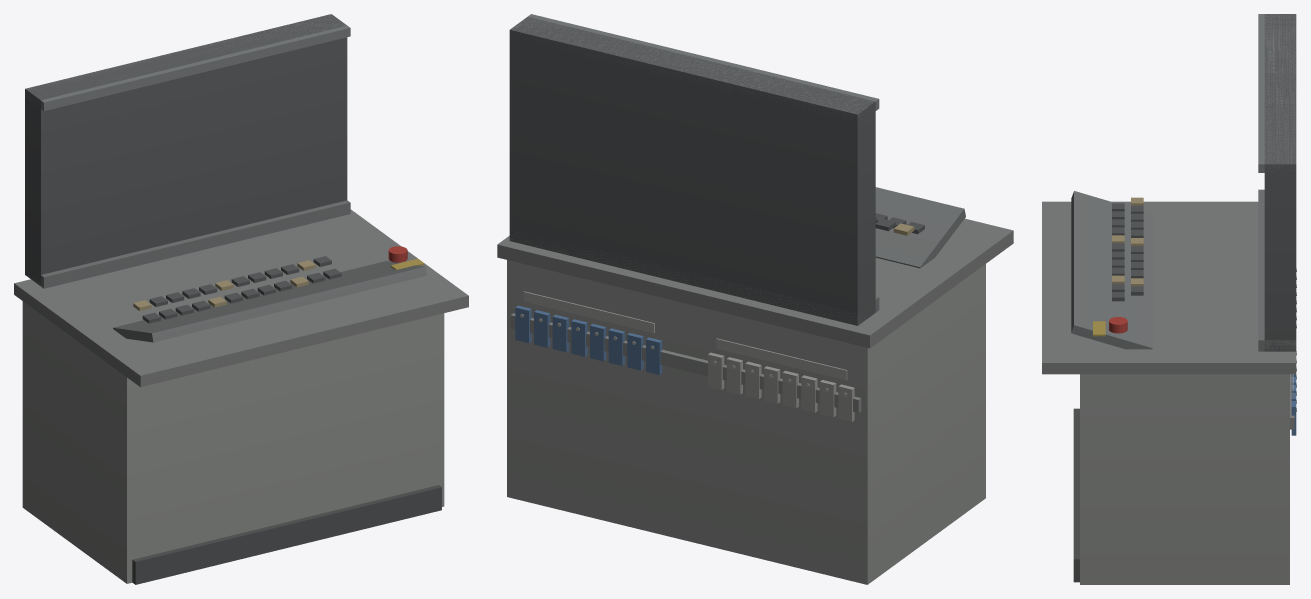
File: lgPlc_steel.glb
3 renders of one model, left to right at view 1: azimuth 30°, elevation 25°; view 2: azimuth 150°, elevation 25°; view 3: azimuth 270°, elevation 25°, orthographic. The views are drawn at different scales.
Parts seen in each view (by area): view 1: lgPlc_steel; view 2: lgPlc_steel; view 3: lgPlc_steel.
Part boxes in pixels (x1,y1,x2,y2): lgPlc_steel: (14,14,468,584); lgPlc_steel: (497,14,1013,584); lgPlc_steel: (1042,14,1296,584).
Size of the model in its own units: 1.2 by 1.45 by 0.802.
